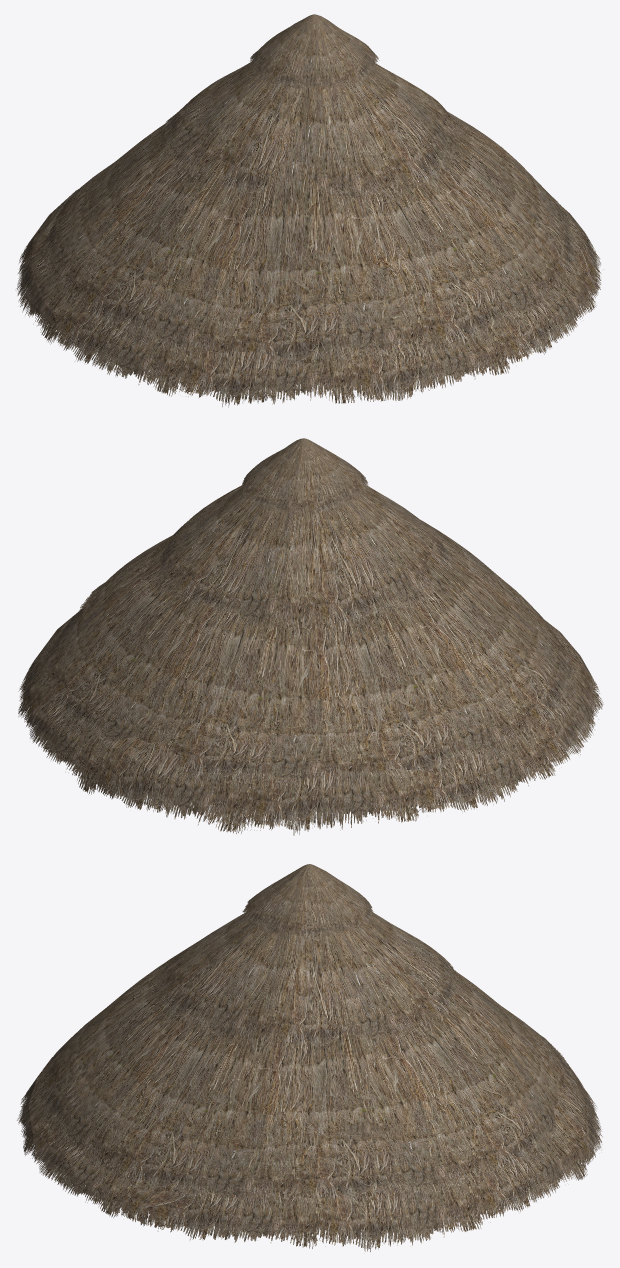
Rendered from Oca1.fbx.
The picture shows the model from 3 angles, top to bottom: view 1: azimuth 30°, elevation 25°; view 2: azimuth 150°, elevation 25°; view 3: azimuth 270°, elevation 25°; orthographic projection.
Parts seen in each view (by area): view 1: Roof Tip; view 2: Roof Tip; view 3: Roof Tip.
Part boxes in pixels (bbox=[...]): Roof Tip: bbox=[16, 14, 600, 407]; Roof Tip: bbox=[18, 438, 603, 835]; Roof Tip: bbox=[17, 864, 602, 1251].
Bounding box in the file's own units: 1223 × 635 × 1224.
Materials: 2 (2 with a texture image).
